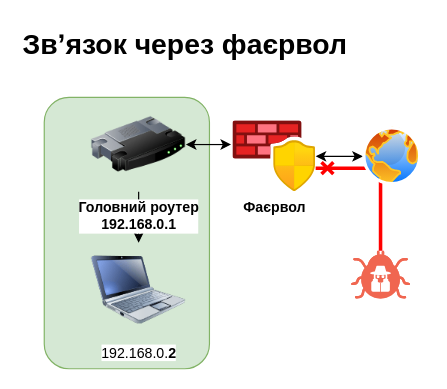
The diagram is 447 pixels wide and 389 high, and some of its shapes have lost their labels. Each missing label, with the centre of its shape:
Шкідливе ПЗ: (380,274)
ІНТЕРНЕТ: (391,155)
